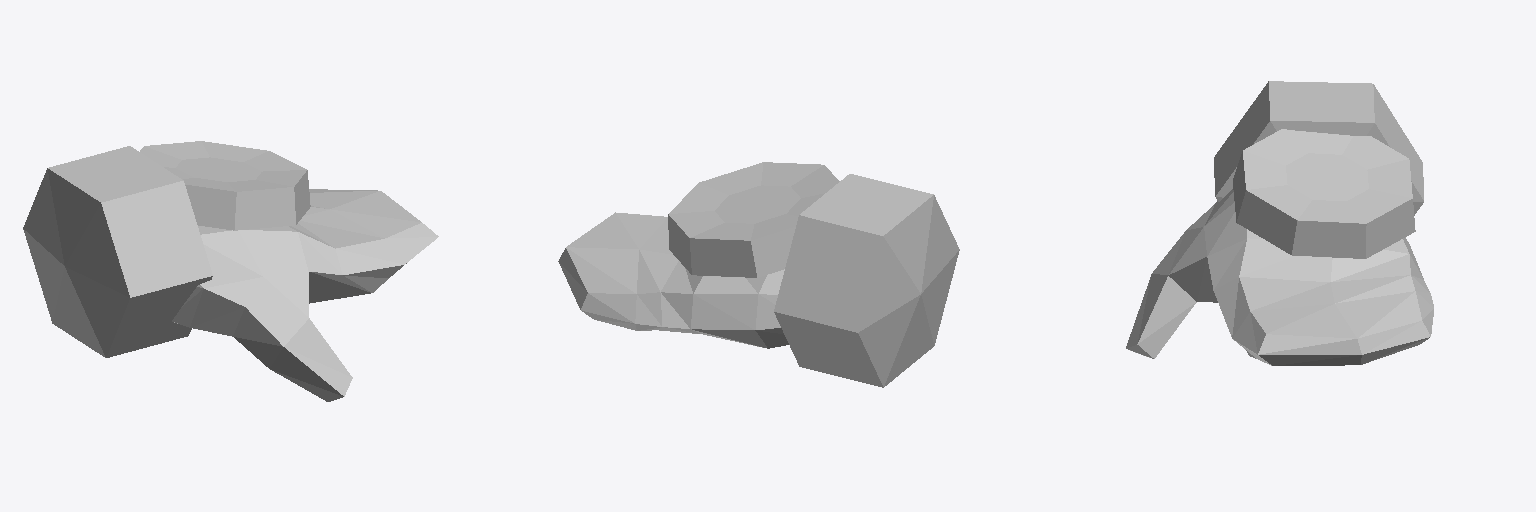
The model's file is kei lefthand.obj.
3 renders of one model, left to right at view 1: azimuth 30°, elevation 25°; view 2: azimuth 150°, elevation 25°; view 3: azimuth 270°, elevation 25°, orthographic.
Visible parts, largest first — view 1: model459.009, model459.012; view 2: model459.009, model459.012; view 3: model459.012, model459.009.
Boxes of the visible parts, box(x1,y1,x2,y2) form: model459.009: box(23, 141, 310, 357); model459.012: box(172, 189, 438, 401); model459.009: box(668, 162, 959, 387); model459.012: box(558, 212, 788, 348); model459.012: box(1126, 189, 1433, 365); model459.009: box(1214, 81, 1423, 258).
Size of the model in its own units: 2.54 by 1.38 by 1.97.